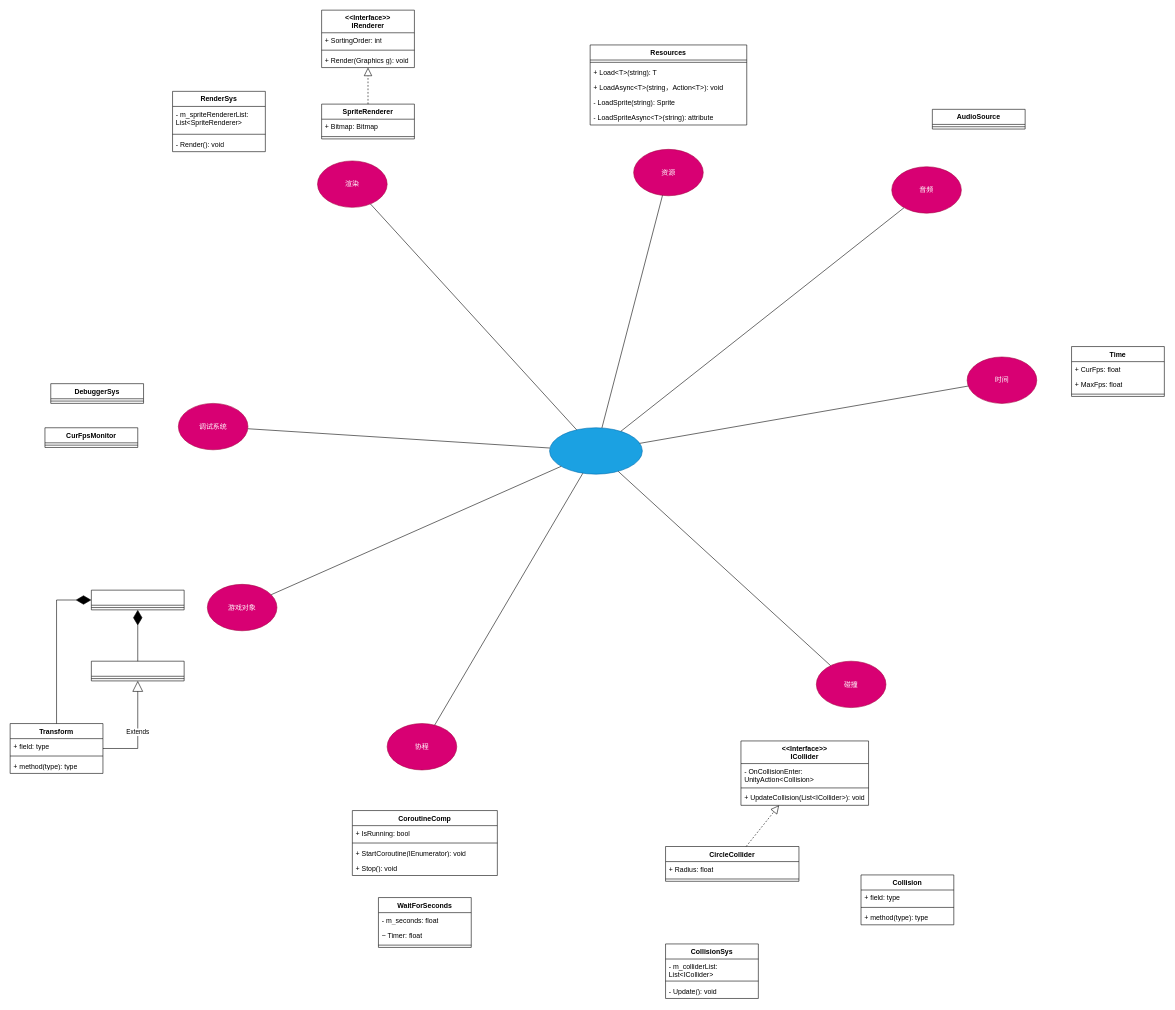
The diagram is 1175 pixels wide and 1010 high, and some of its shapes have lost their labels. The centre of each missing label's shape, as x and y in pixels:
BaseComponent: point 137,671
GameObject: point 137,600
WinFormGameEngine: point 595,450
